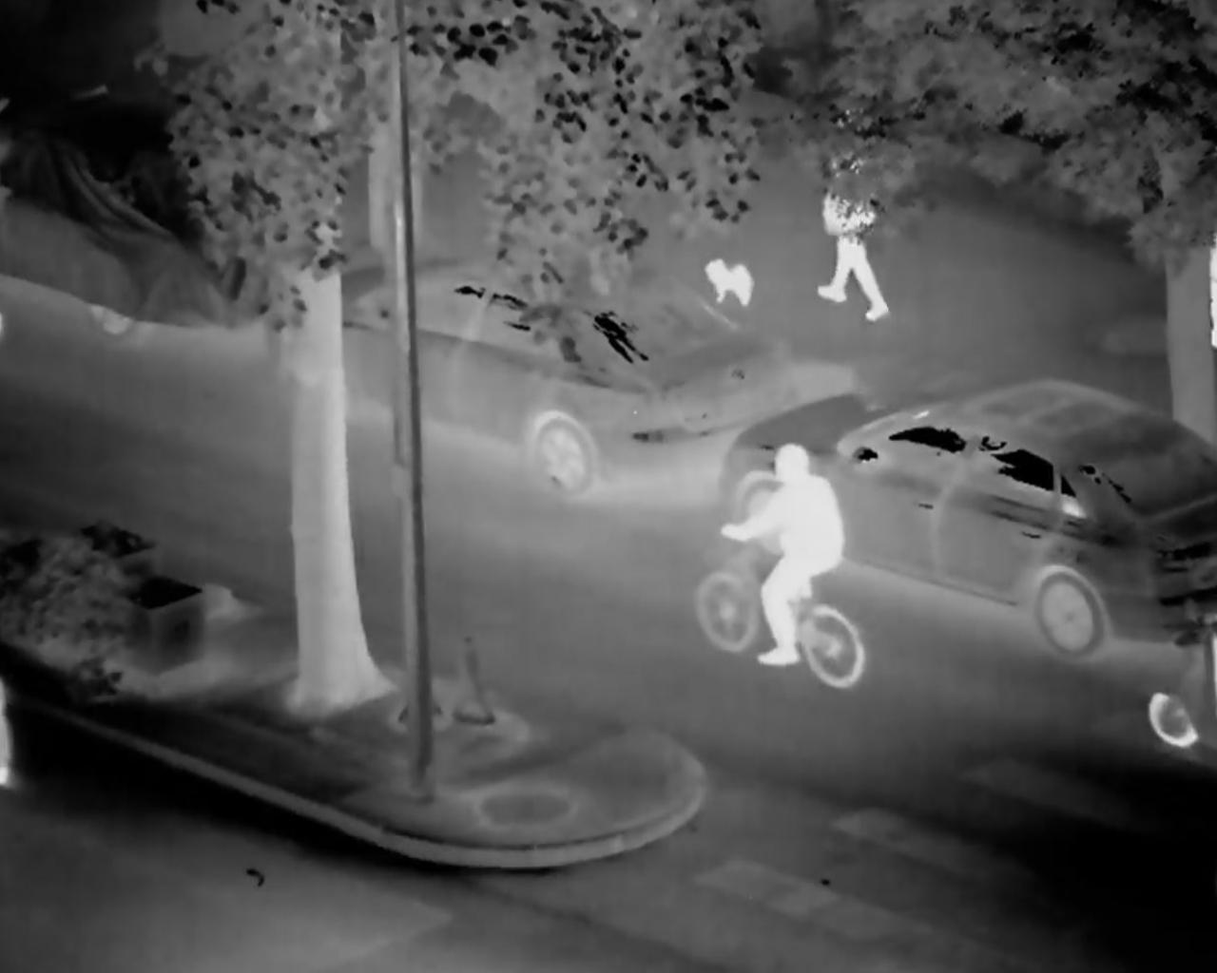person: (712, 440, 860, 685), (812, 128, 901, 331)
